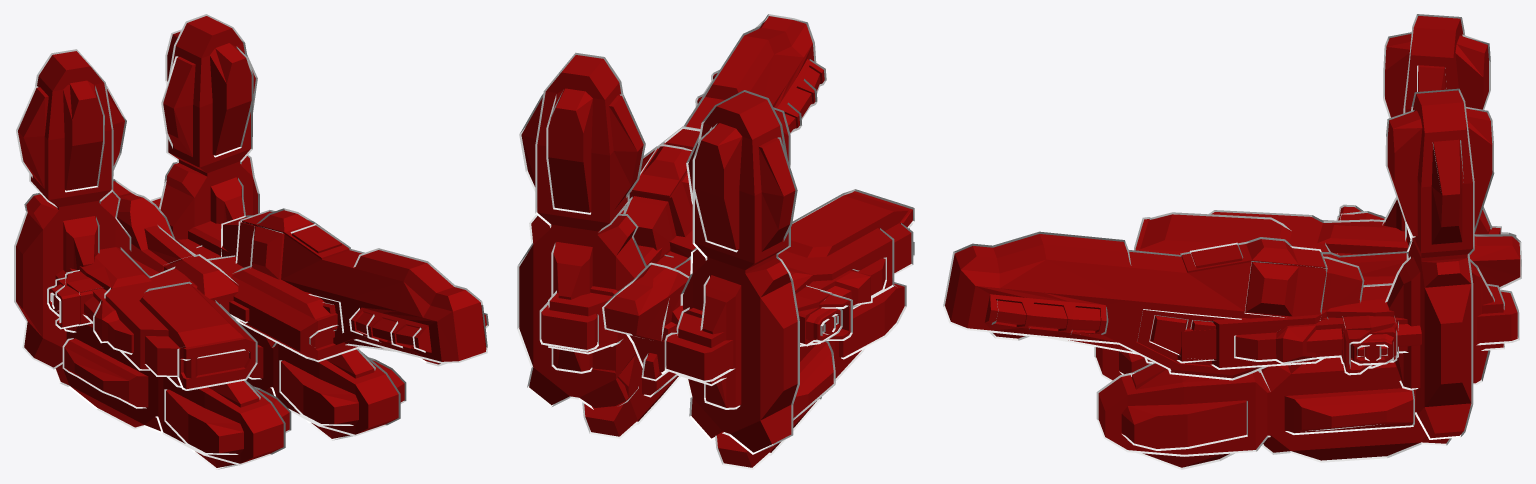
File: ship13_red.glb
The picture shows the model from 3 angles, left to right: view 1: azimuth 30°, elevation 25°; view 2: azimuth 150°, elevation 25°; view 3: azimuth 270°, elevation 25°; orthographic projection. The views are drawn at different scales.
Parts seen in each view (by area): view 1: ME_ship_IndexedFaceSet; view 2: ME_ship_IndexedFaceSet; view 3: ME_ship_IndexedFaceSet.
Boxes of the visible parts, box(x1,y1,x2,y2) form: ME_ship_IndexedFaceSet: box(14, 14, 488, 469); ME_ship_IndexedFaceSet: box(517, 14, 914, 469); ME_ship_IndexedFaceSet: box(943, 14, 1521, 469).
Bounding box in the file's own units: 307 × 364 × 524.
